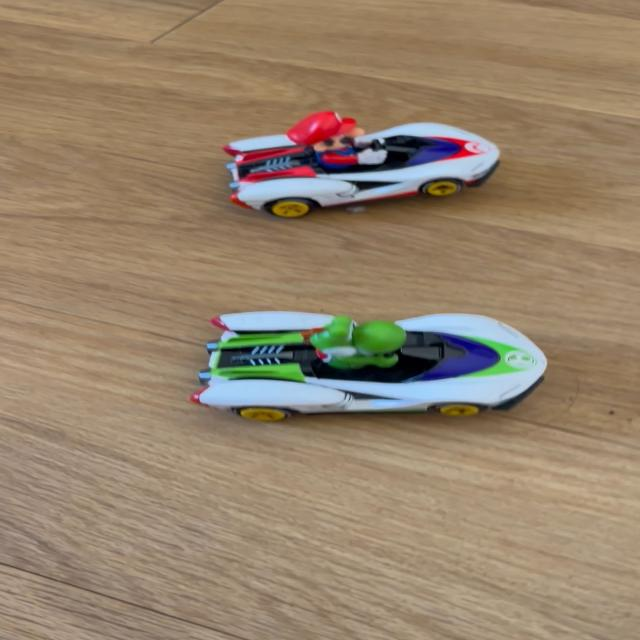mario: (193, 103, 514, 220)
yoshi: (162, 295, 568, 427)
